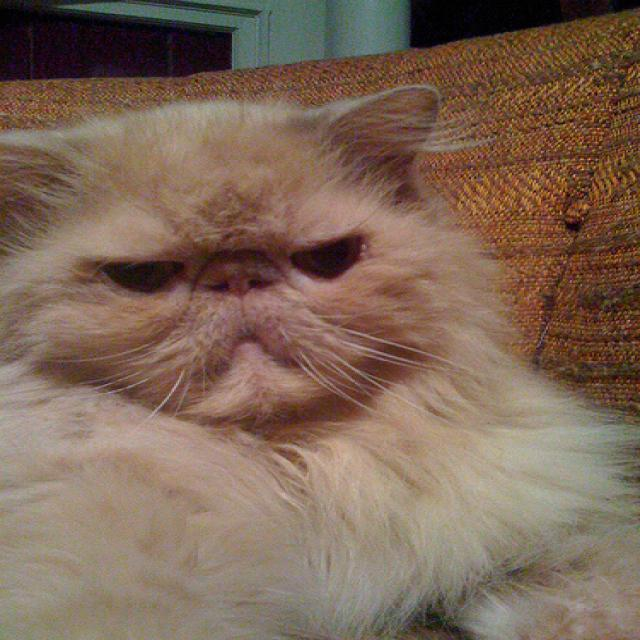Persian: (0, 85, 442, 412)
